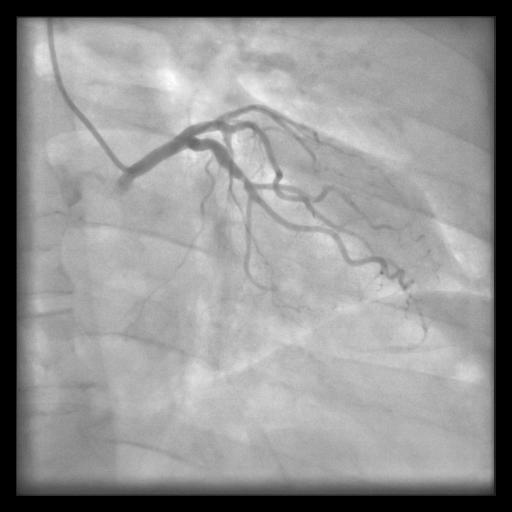Stenosis: (239, 169, 248, 187)
